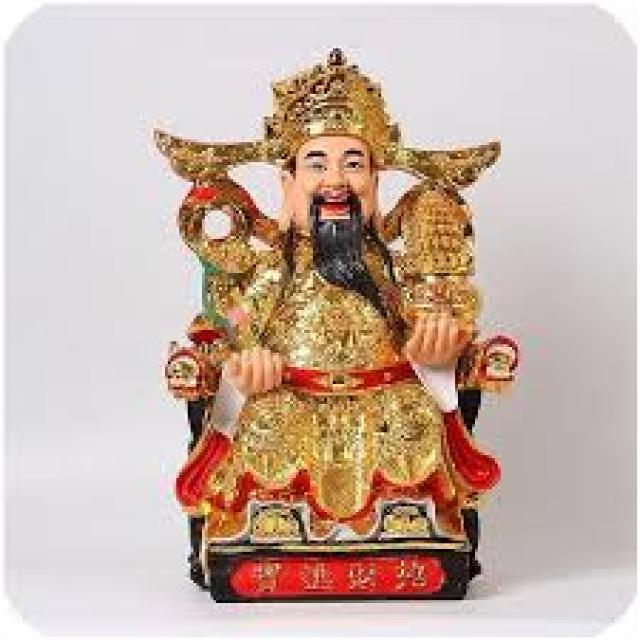Cai shen: (156, 46, 492, 491)
